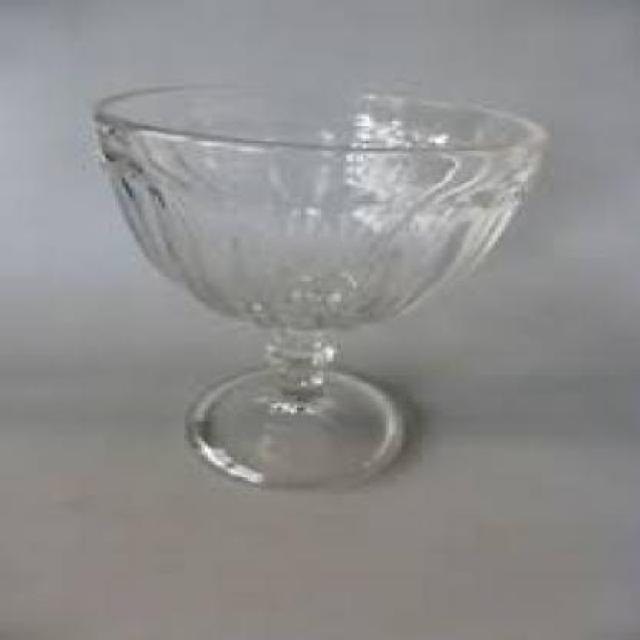kaca: (92, 85, 542, 488)
